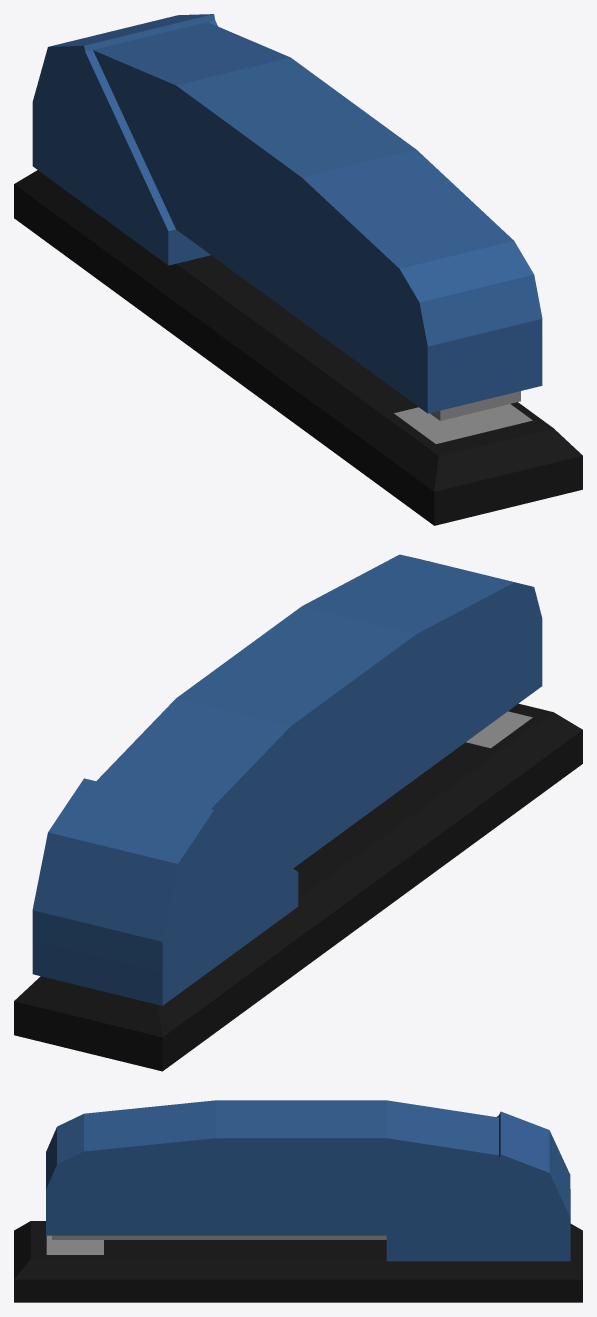
Rendered from stapler.glb.
The picture shows the model from 3 angles, top to bottom: view 1: azimuth 30°, elevation 25°; view 2: azimuth 150°, elevation 25°; view 3: azimuth 270°, elevation 25°; orthographic projection. The views are drawn at different scales.
Visible parts, largest first — view 1: Stapler; view 2: Stapler; view 3: Stapler.
Part boxes in pixels (x1,y1,x2,y2): Stapler: [14, 14, 582, 525]; Stapler: [14, 554, 582, 1071]; Stapler: [14, 1100, 582, 1302].
Bounding box in the file's own units: 0.0234 × 0.0353 × 0.1146.
Materials: 1 (1 with a texture image).
